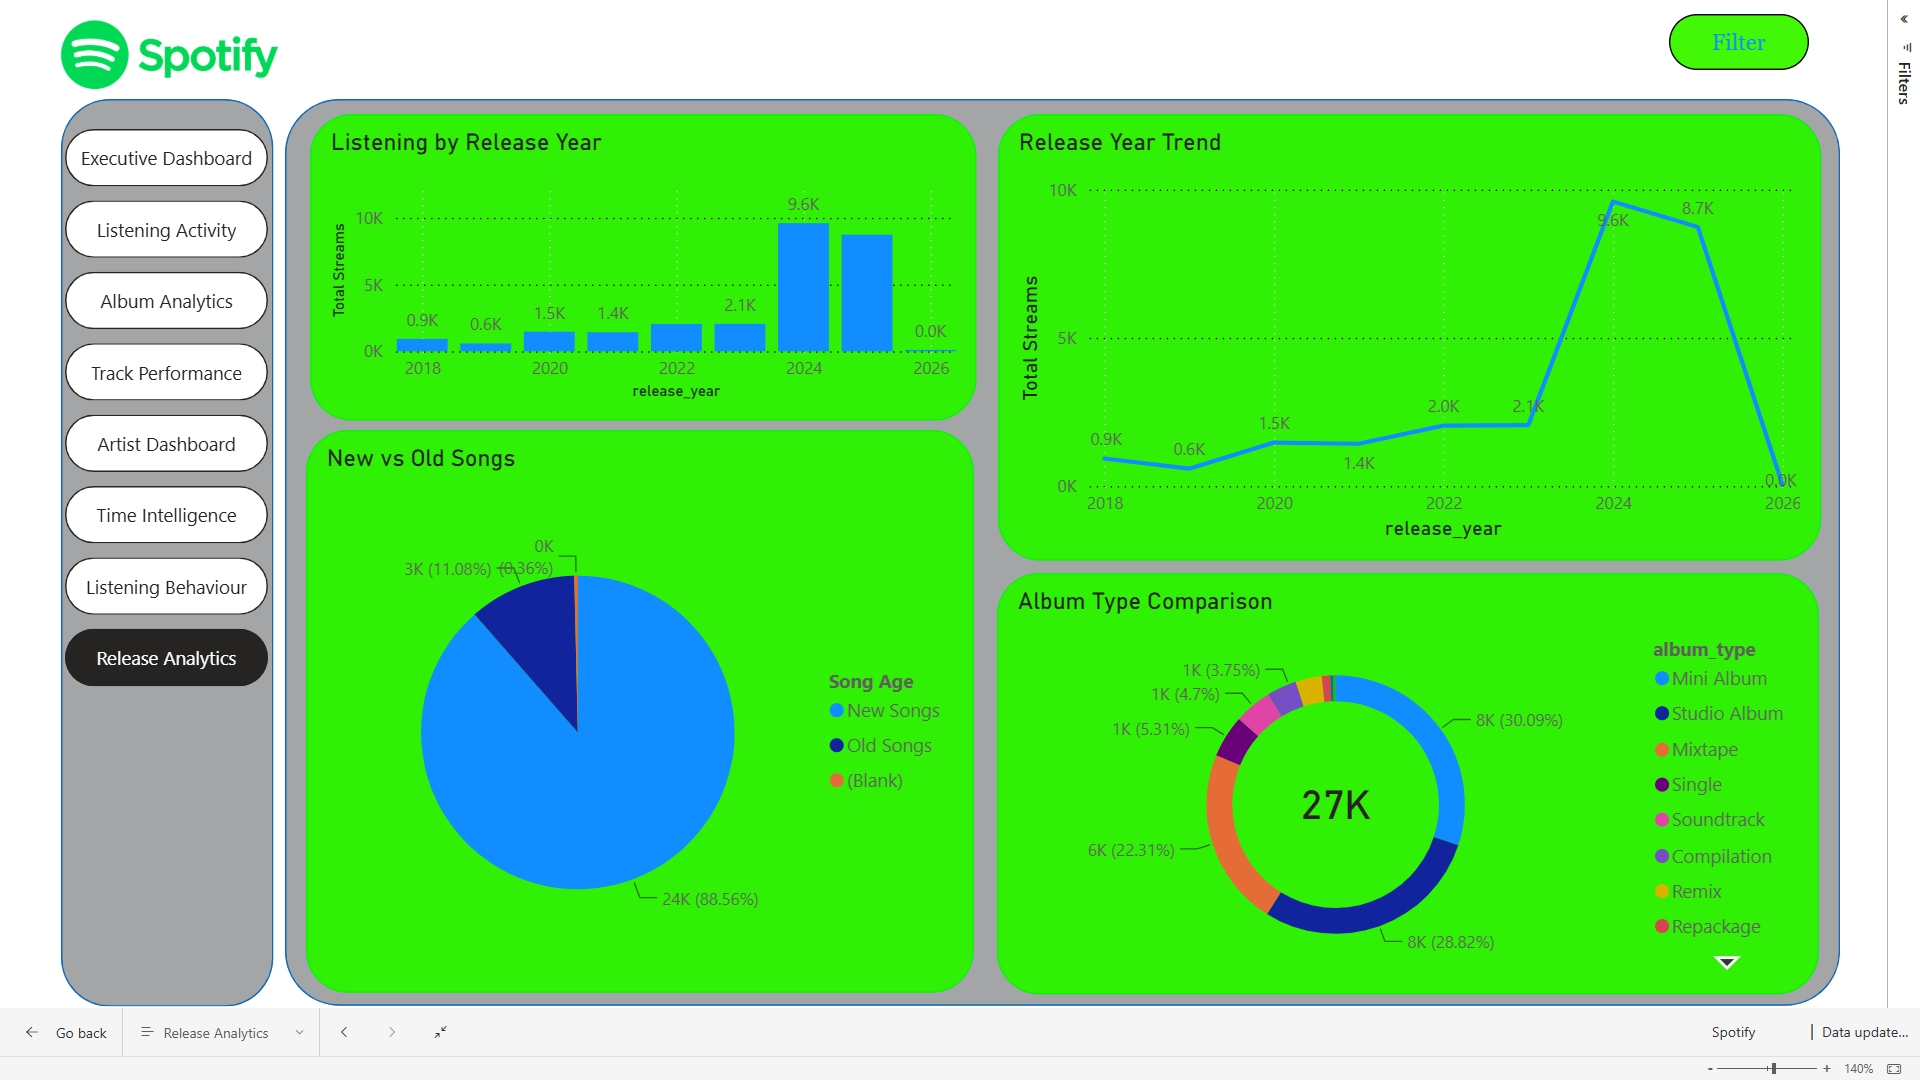

The page's visual inventory and layout, read from the dashboard file:
{"tool":"powerbi","page":{"name":"Release Analytics","canvas":[1280,720],"ordinal":7},"visuals":[{"type":"image","title":"Brand Name","box":[8.2,3.6,158.2,70.9],"z":0},{"type":"shape","box":[9,70.7,151.7,648.4],"z":0,"group":"g2"},{"type":"shape","box":[169.3,70.9,1110.7,647.6],"z":0,"group":"g1"},{"type":"group","id":"g1","title":"Main","box":[169.3,70.9,1110.7,647.6],"z":1000},{"type":"pageNavigator","box":[11.7,92.2,146,403],"z":1000,"group":"g2"},{"type":"pieChart","title":"New vs Old Songs","fields":{"Category":["spotify_skz_counts_album.Song Age"],"Y":["Custome Measure.Total Streams"]},"box":[184.3,307.4,477.3,402.1],"z":1000,"group":"g1"},{"type":"donutChart","title":"Album Type Comparison","fields":{"Category":["spotify_skz_counts_album.album_type"],"Y":["Custome Measure.Total Streams"]},"box":[677.7,409.5,586.8,300.8],"z":2000,"group":"g1"},{"type":"lineChart","title":"Release Year Trend","fields":{"Category":["spotify_skz_counts_album.release_year"],"Y":["Custome Measure.Total Streams"]},"box":[678.6,81.7,588.4,318.8],"z":3000,"group":"g1"},{"type":"actionButton","title":"Filter","box":[1158,9.8,100,40],"z":4000},{"type":"columnChart","title":"Listening by Release Year","fields":{"Category":["spotify_skz_counts_album.release_year"],"Y":["Custome Measure.Total Streams"]},"box":[186.9,81.7,476.4,218.5],"z":4000,"group":"g1"},{"type":"group","id":"g2","title":"Navigation","box":[9,70.7,151.7,648.4],"z":5000}]}

Visuals, with their boxes on the page's 1280x720 design canvas (x1, y1, x2, y2). These are canvas units, not pixel positions in the 1920x1080 screenshot, which may show the page scaled, cropped or inside an application window:
"Brand Name" image: 8,4,166,74
shape: 9,71,161,719
shape: 169,71,1280,718
"Main" group: 169,71,1280,718
pageNavigator: 12,92,158,495
"New vs Old Songs" pieChart: 184,307,662,710
"Album Type Comparison" donutChart: 678,410,1264,710
"Release Year Trend" lineChart: 679,82,1267,400
"Filter" actionButton: 1158,10,1258,50
"Listening by Release Year" columnChart: 187,82,663,300
"Navigation" group: 9,71,161,719
